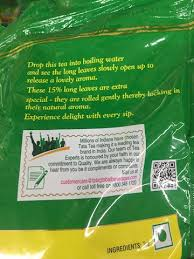qr_code: (151, 159, 177, 191)
